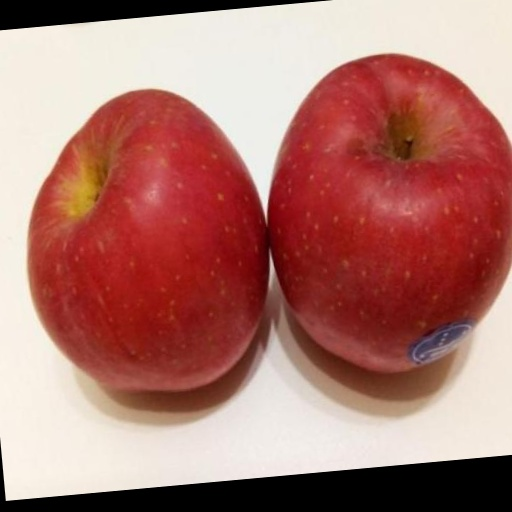fruit: (267, 55, 512, 372), (27, 90, 268, 390)
